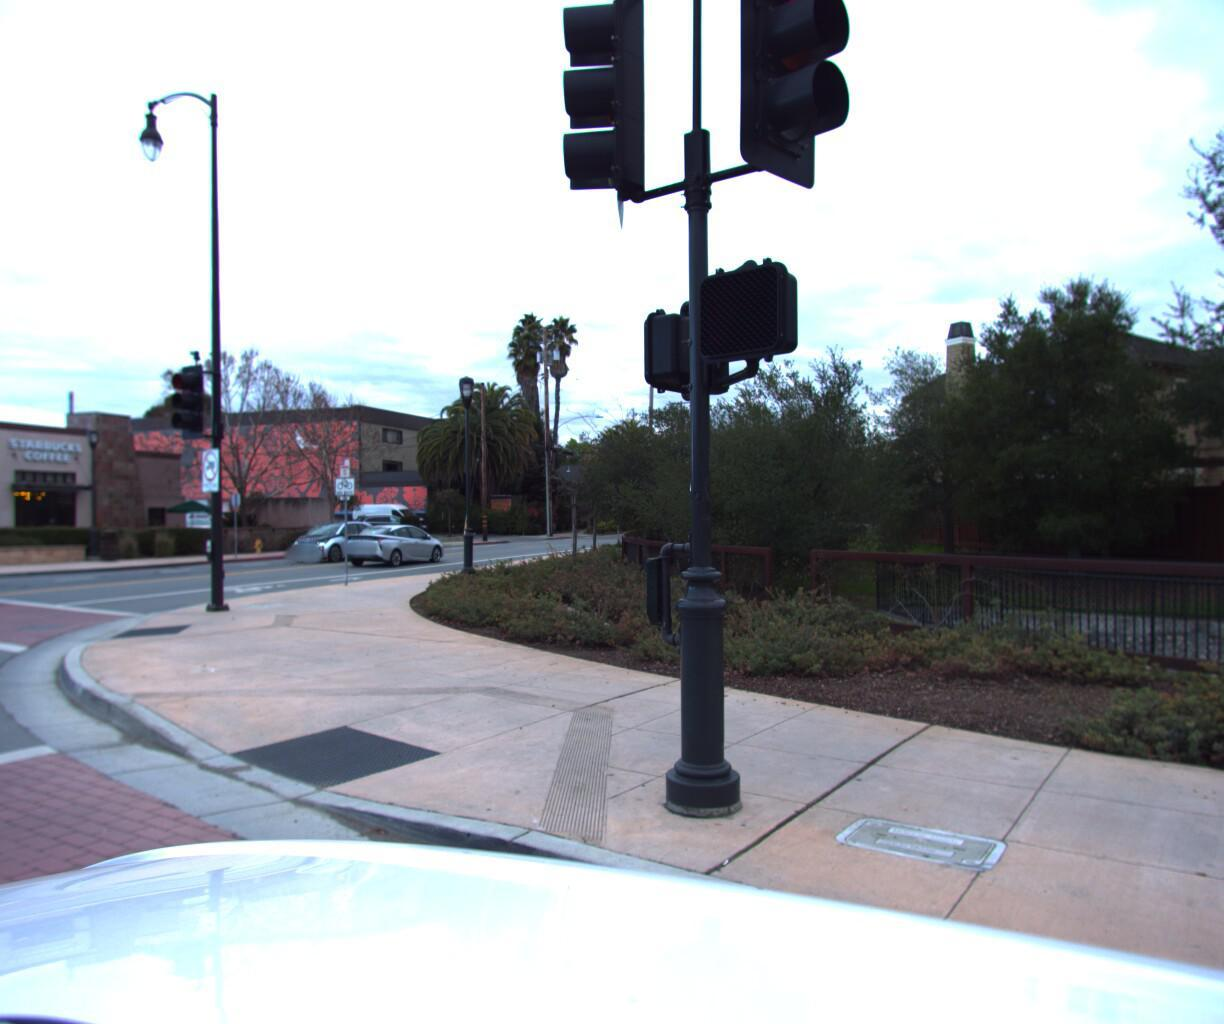car: (333, 521, 452, 565), (347, 514, 432, 541), (0, 534, 8, 630)
